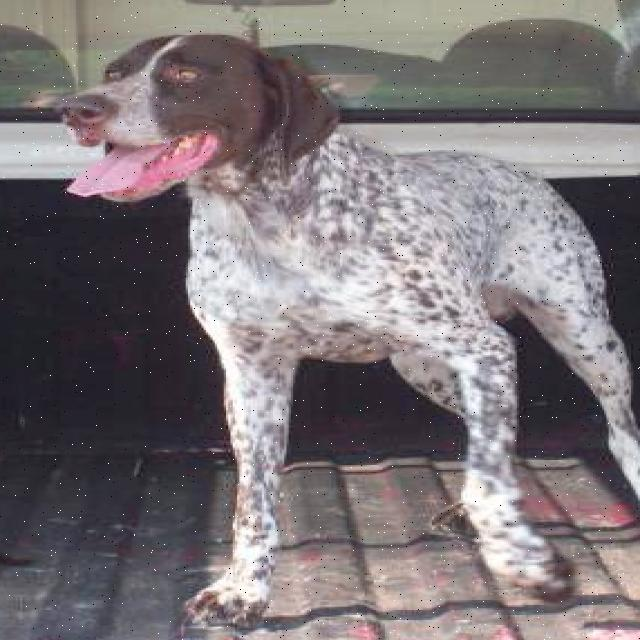Dog: (52, 28, 343, 213)
